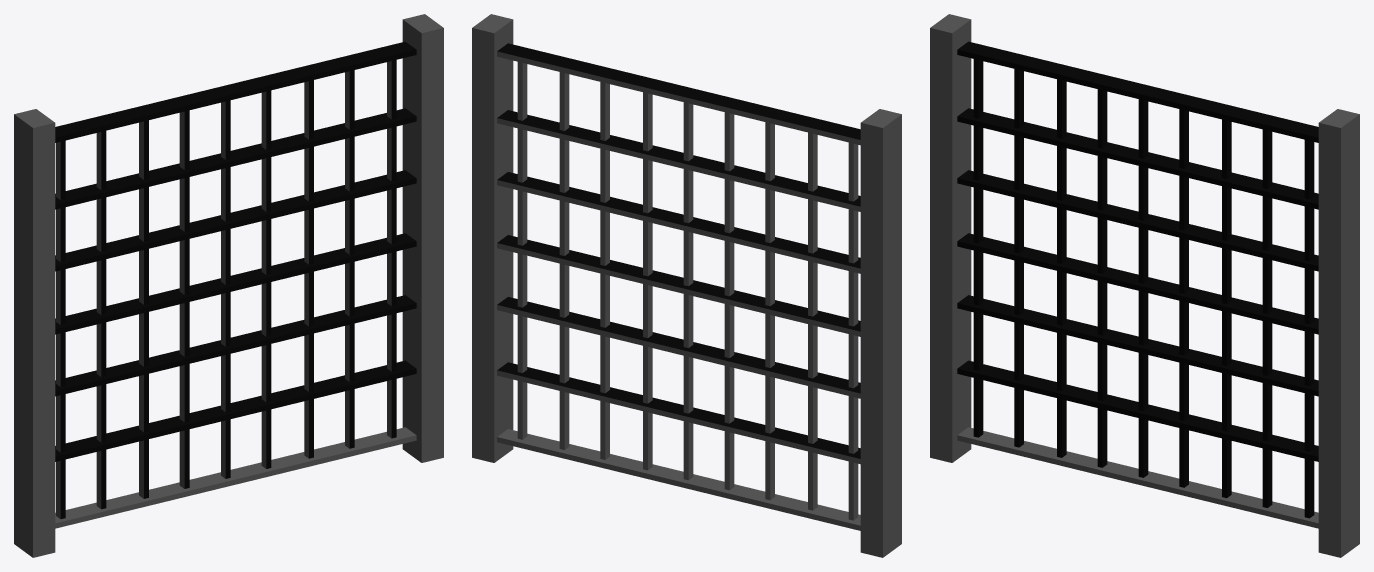
The model's file is Grillage.fbx.
3 renders of one model, left to right at view 1: azimuth 30°, elevation 25°; view 2: azimuth 150°, elevation 25°; view 3: azimuth 330°, elevation 25°, orthographic.
Visible parts, largest first — view 1: Cube.244; view 2: Cube.244; view 3: Cube.244.
Part boxes in pixels (<box>): Cube.244: <box>14,14,443,557</box>; Cube.244: <box>472,14,901,557</box>; Cube.244: <box>930,14,1359,557</box>.
Size of the model in its own units: 1000 by 1000 by 79.97.
